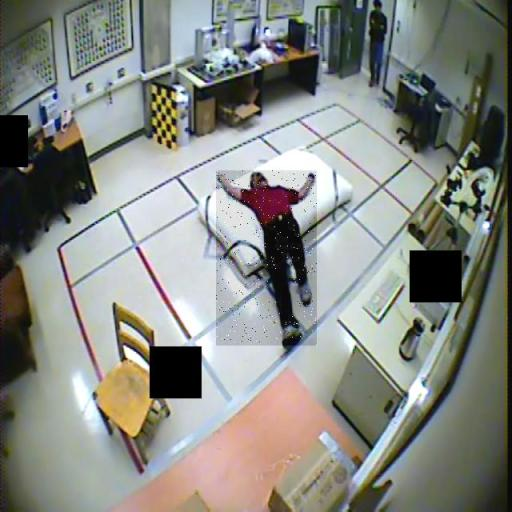Fall: (216, 171, 317, 346)
